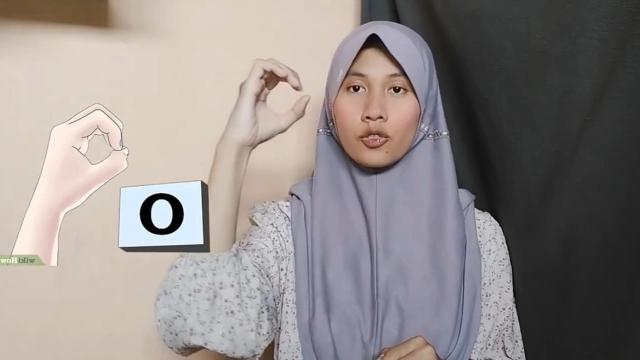O: (220, 52, 312, 158)
